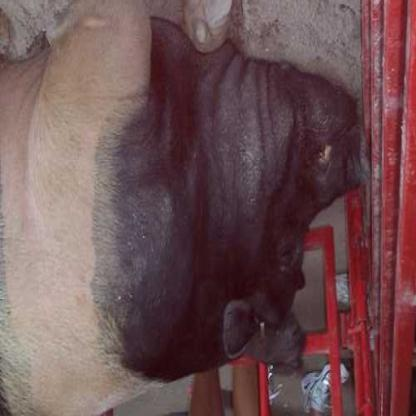boar: (0, 61, 369, 371)
